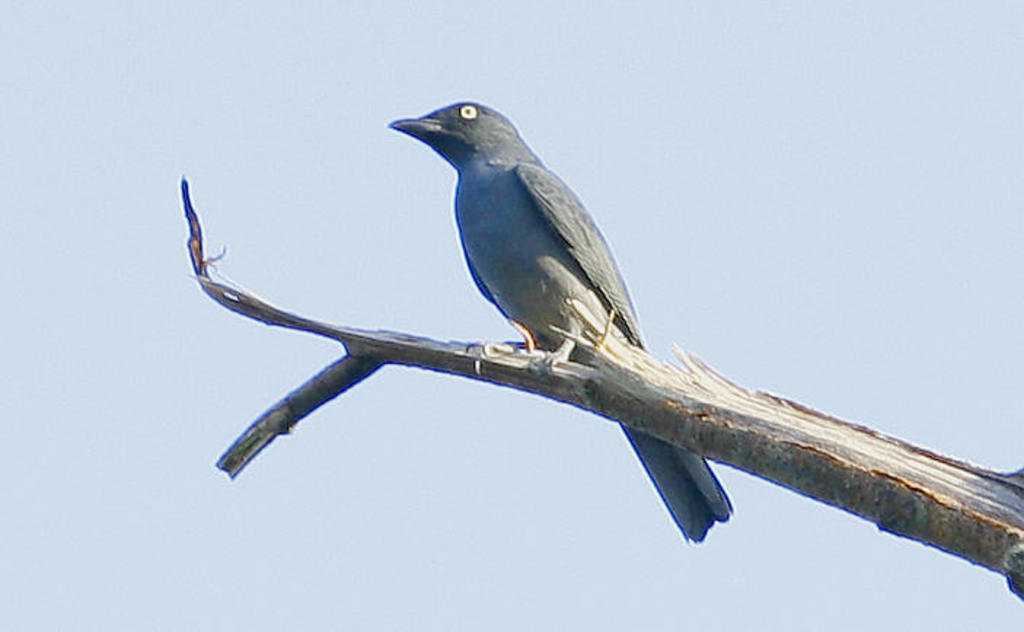Bird: (387, 102, 736, 543)
